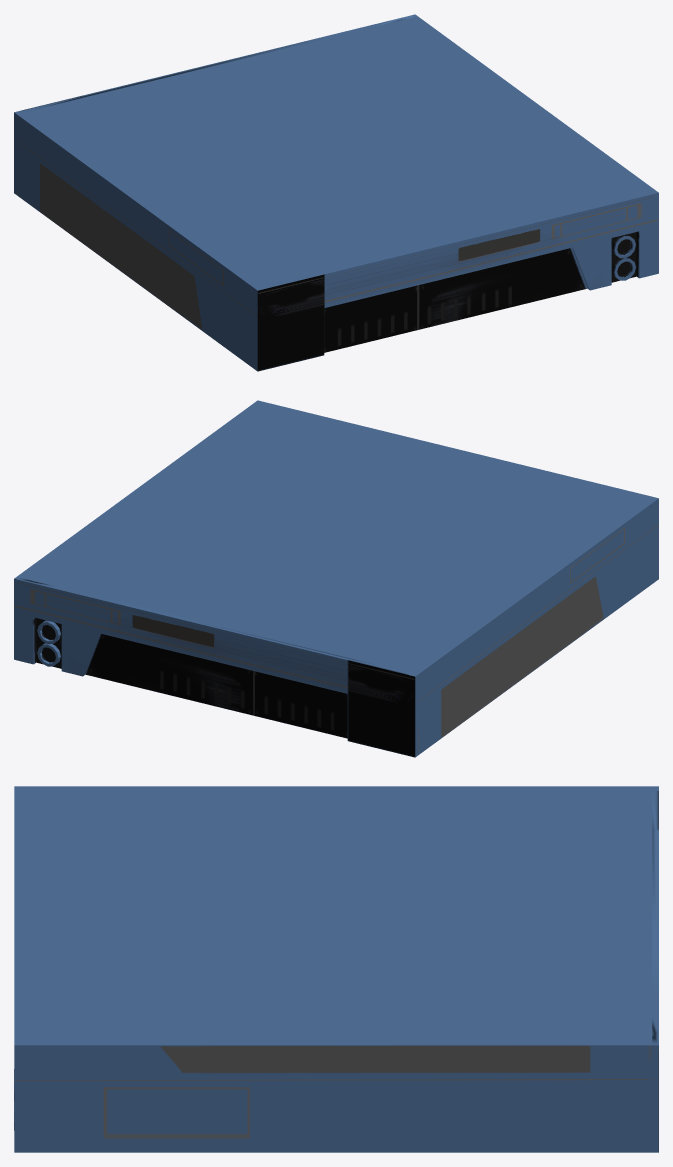
File: 實驗室平台2.fbx
3 views of the same model, one above another, from view 1: azimuth 30°, elevation 25°; view 2: azimuth 150°, elevation 25°; view 3: azimuth 270°, elevation 25° (orthographic). The views are drawn at different scales.
Visible parts, largest first — view 1: platformLAB4_2; view 2: platformLAB4_2; view 3: platformLAB4_2.
Part boxes in pixels (box(x1,y1,x2,y2)): platformLAB4_2: box(14, 14, 658, 371); platformLAB4_2: box(14, 400, 658, 757); platformLAB4_2: box(14, 786, 658, 1152).
Bounding box in the file's own units: 1060 × 204 × 1115.
